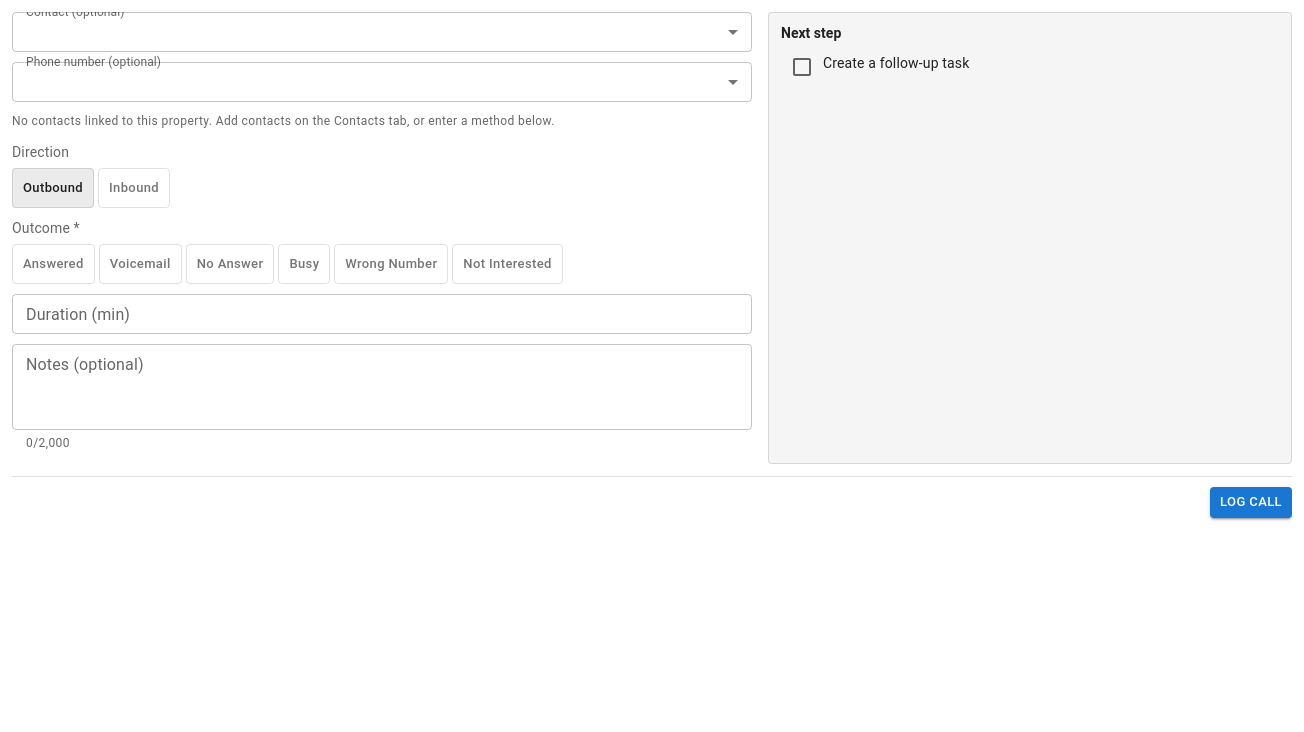
LogActivityForm — mode="call" (parity with former LogCallForm) › shows validation error when Save is clicked without selecting outcome
What coordinates should you click on to do the following:
click the button with test id "call-save-btn"
I would click on:
 (1251, 502)
Its box is [1210, 487, 1292, 518].
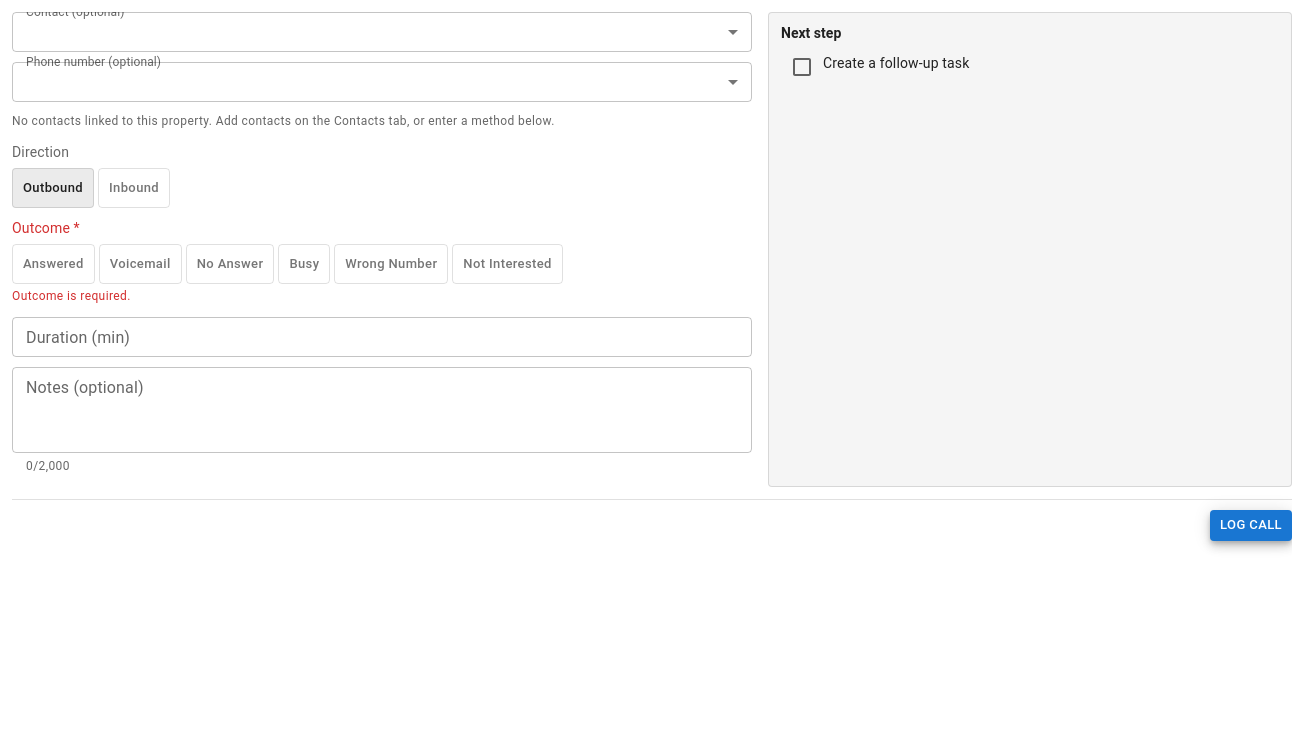
Expected: the text with test id "call-outcome-error" reads "Outcome is required.", [12, 289, 131, 303]
